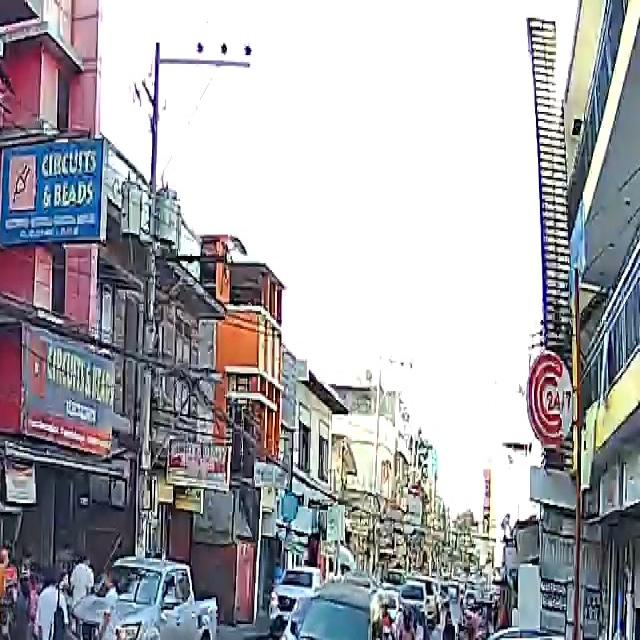car: (101, 553, 220, 640), (275, 578, 405, 640), (273, 572, 324, 630), (475, 626, 586, 640), (0, 638, 95, 640)
